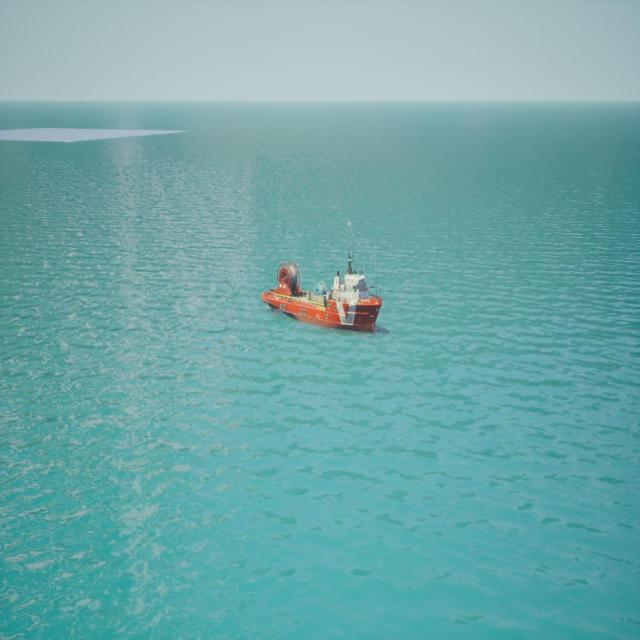tug boat: (260, 223, 387, 341)
